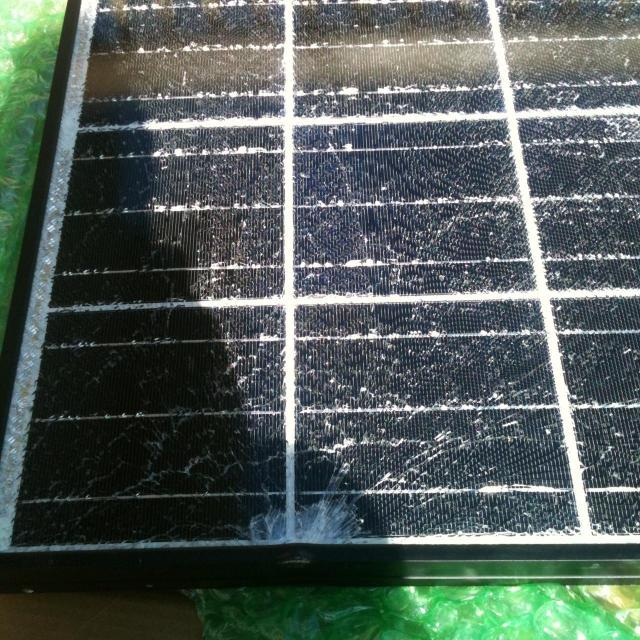cracked: (0, 6, 638, 556)
